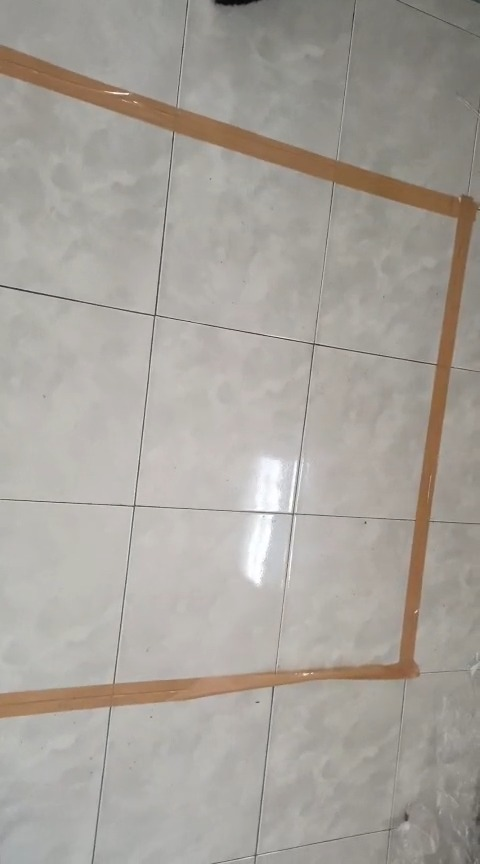floor marking: (0, 48, 474, 716)
